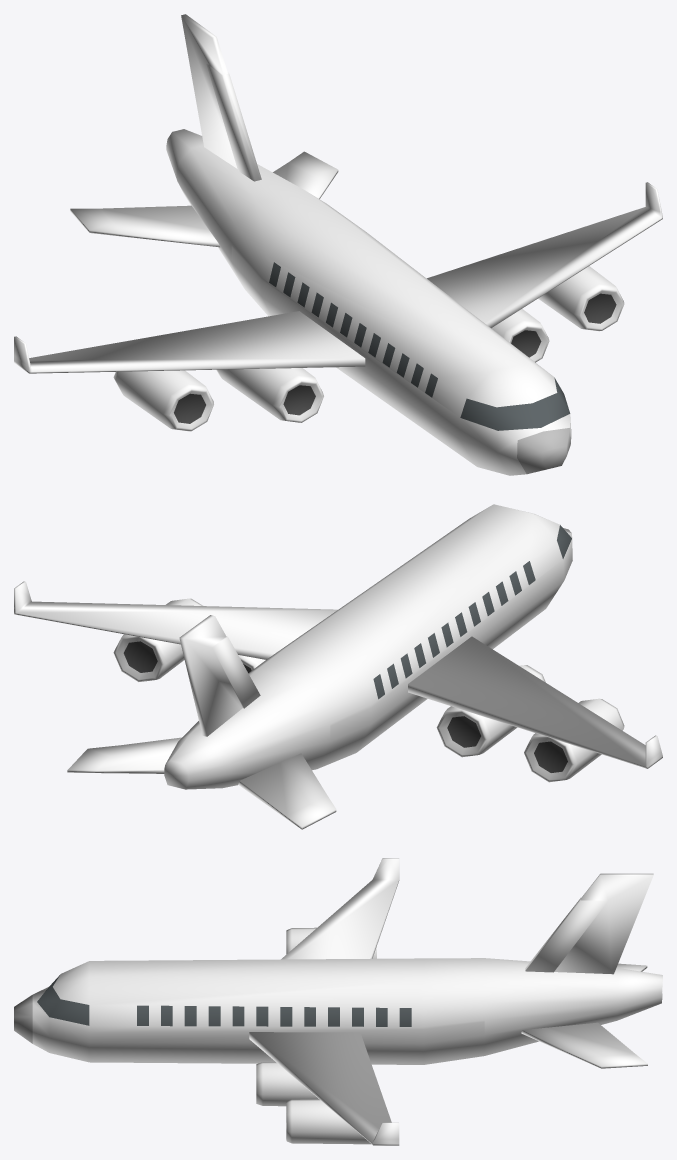
Rendered from Airplane_3.fbx.
3 renders of one model, top to bottom at view 1: azimuth 30°, elevation 25°; view 2: azimuth 150°, elevation 25°; view 3: azimuth 270°, elevation 25°, orthographic. The views are drawn at different scales.
Parts seen in each view (by area): view 1: Airplane_3; view 2: Airplane_3; view 3: Airplane_3.
Boxes of the visible parts, left/top/right/bottom form: Airplane_3: left=14, top=14, right=662, bottom=475; Airplane_3: left=14, top=504, right=662, bottom=829; Airplane_3: left=14, top=858, right=662, bottom=1145.
Size of the model in its own units: 1852 by 598 by 1917.
